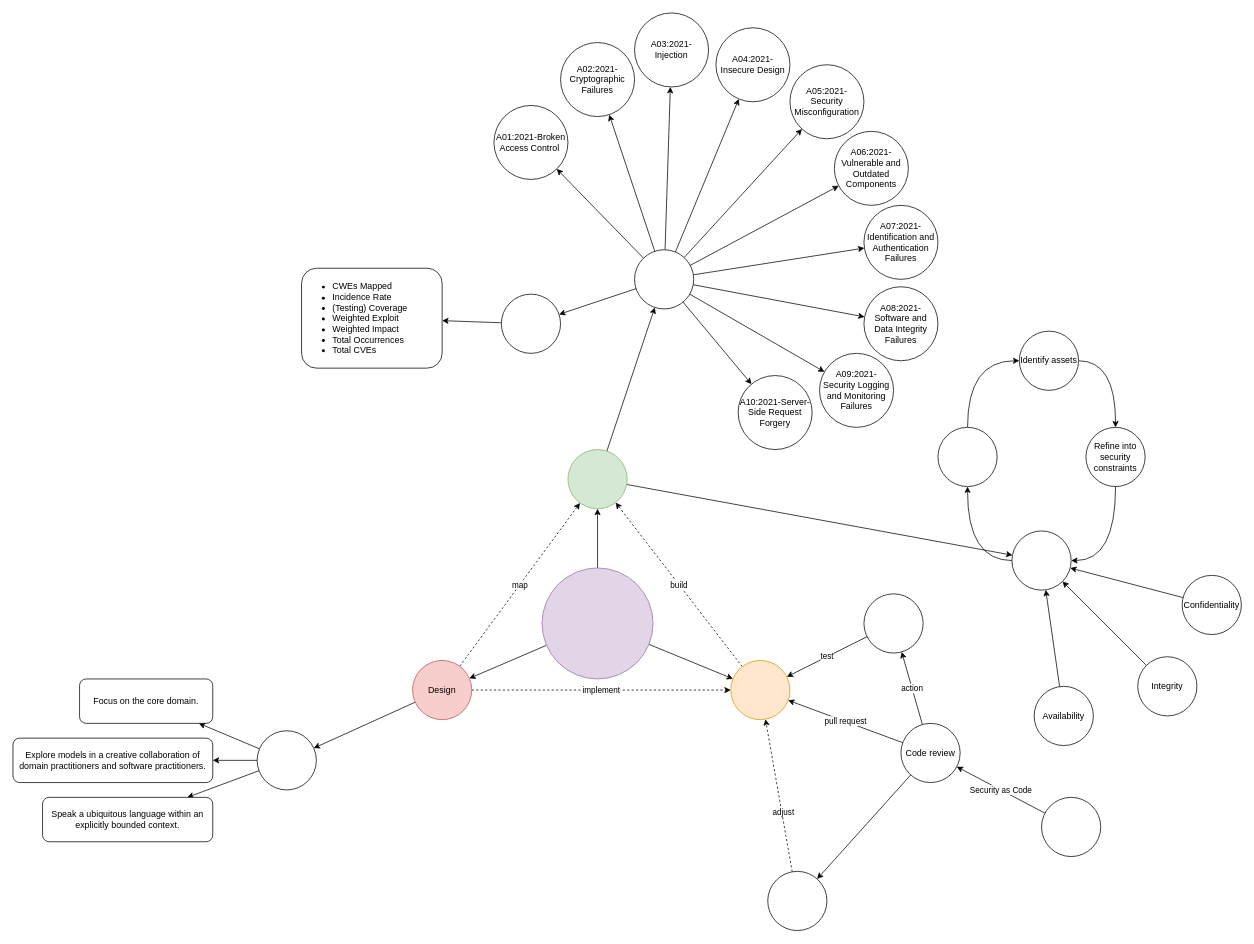
Image size: 1254x944. Some labels were removed from this diagram. Here are the shapes that lost their labels. From the top down, the centre of each, then its label:
[664,279]: OWASP
[531,323]: Data Factors
[967,457]: Develop & test
[597,479]: Delivery Products
[1041,560]: Security Goals
[597,623]: Software Quality
[893,623]: xUnit Tests
[760,690]: Develop Code
[286,760]: DDD
[1071,827]: DevSecOps
[797,901]: Refactoring
